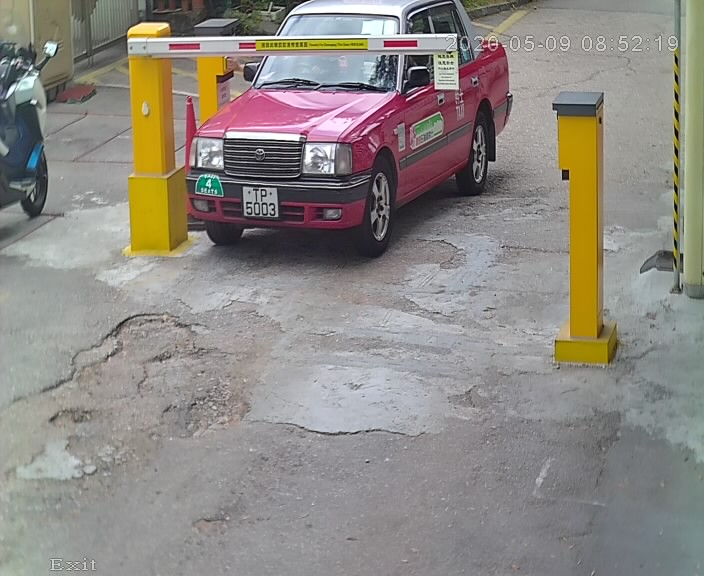taxi: (151, 2, 537, 279)
taxi_mark: (187, 165, 230, 207)
